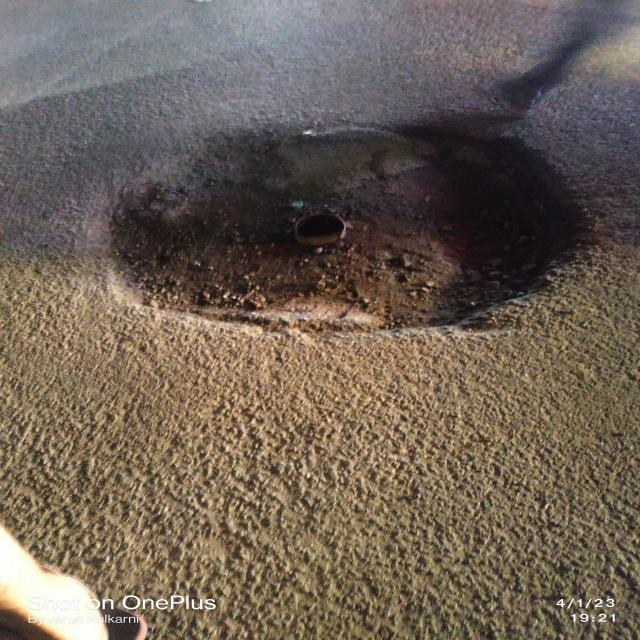potholes: (96, 132, 562, 357)
